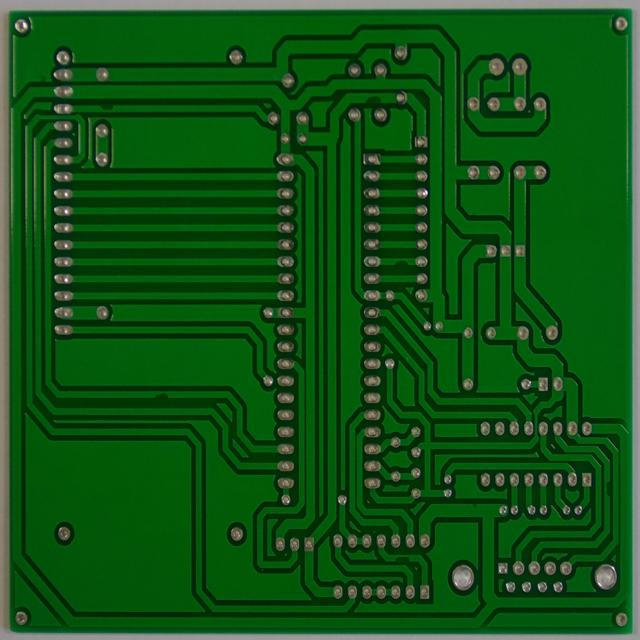mouse_bite: (359, 88, 386, 107), (148, 387, 172, 402), (389, 254, 412, 269), (392, 552, 412, 565), (97, 100, 116, 113), (602, 478, 613, 497)
